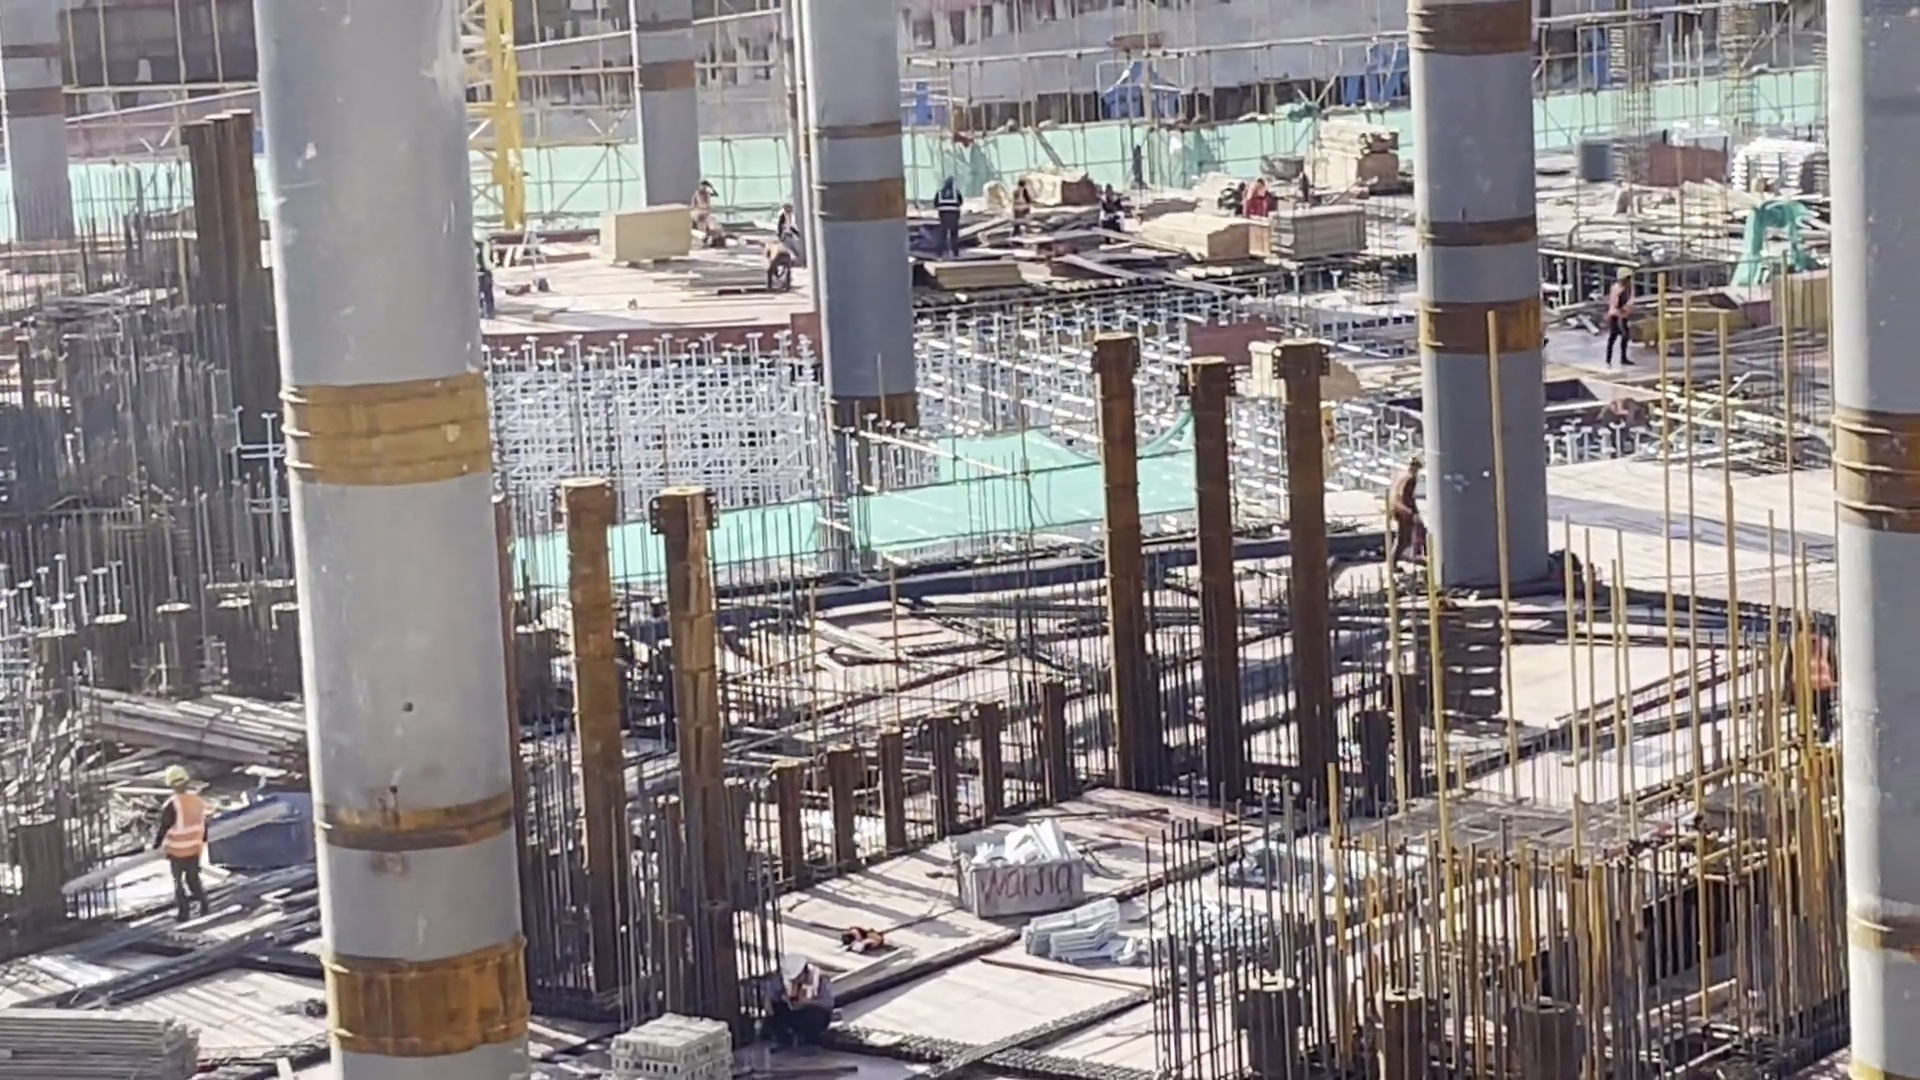helmet: (774, 949, 809, 974), (1401, 446, 1422, 472), (942, 175, 957, 187), (1016, 174, 1025, 186)
hopper: (938, 811, 1093, 923), (215, 786, 325, 871)
person: (149, 753, 221, 902), (749, 939, 831, 1048), (1374, 454, 1445, 574), (1603, 252, 1658, 382), (926, 169, 964, 256), (999, 178, 1040, 249), (685, 167, 718, 235), (767, 191, 804, 242), (1214, 169, 1241, 217), (1097, 176, 1118, 227), (1260, 183, 1271, 219)
vest: (160, 794, 201, 855), (1387, 470, 1420, 526), (933, 187, 960, 212), (1015, 189, 1026, 211)
wood: (1, 1009, 215, 1078)
